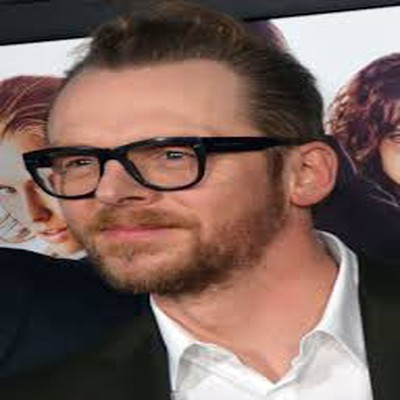eywear: (29, 113, 312, 195)
